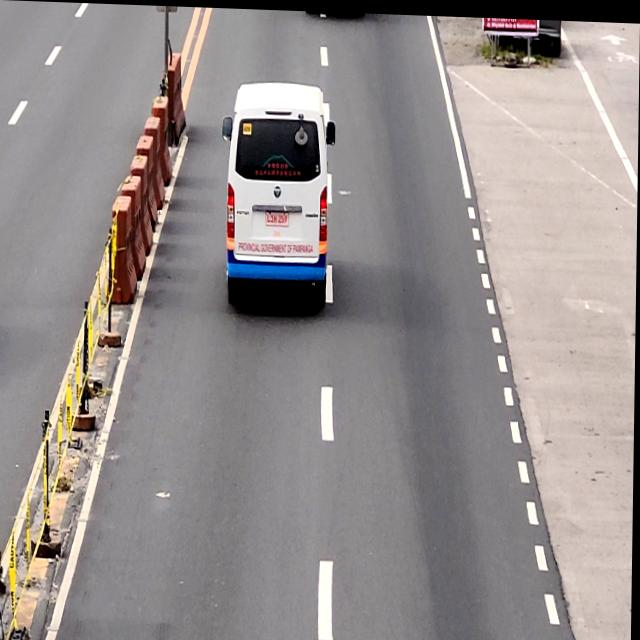Car: (221, 78, 338, 303)
License-Plate: (266, 210, 288, 225)
